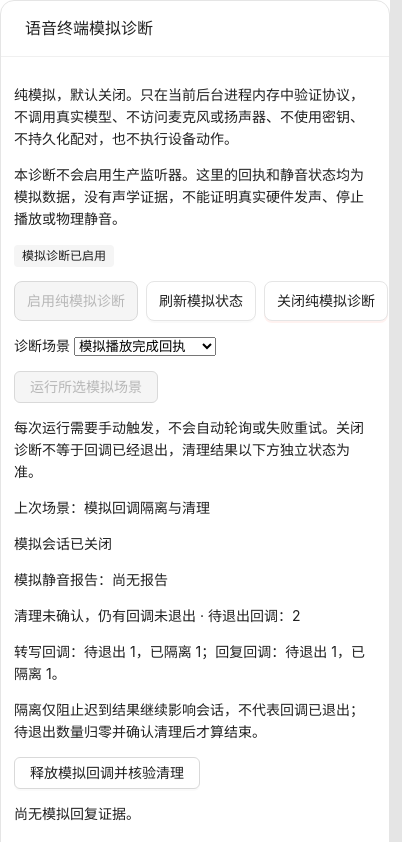
Test: memory-only terminal diagnostics › preserves quarantined callbacks as unconfirmed until explicitly released and checked
This screenshot has width=402, height=842.
Check: the text "模拟诊断已启用" is shown, box [14,245,114,267]
Check: the text named "模拟清理状态" shows "清理未确认，仍有回调未退出", box [14,607,196,624]
What coordinates should you click on to do the following:
click the button "释放模拟回调并核验清理"
I would click on:
 (107, 773)
Its box is [14,757,200,789].
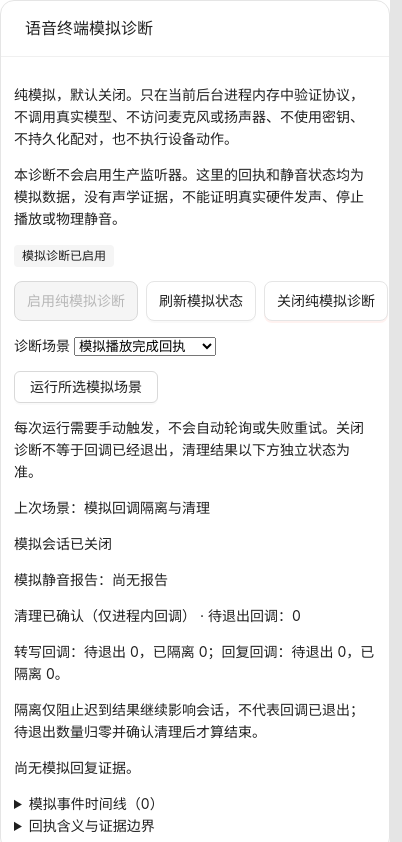
Check: the text named "模拟清理状态" shows "清理已确认（仅进程内回调）", box [14,607,196,624]
Check: the button "释放模拟回调并核验清理" is gone
Check: the button "运行所选模拟场景" is enabled, box [14,371,158,403]
